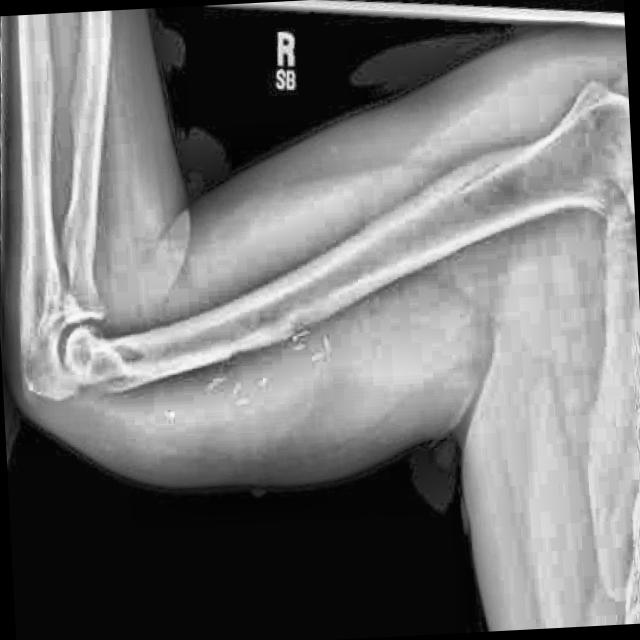humerus: (421, 111, 552, 232)
